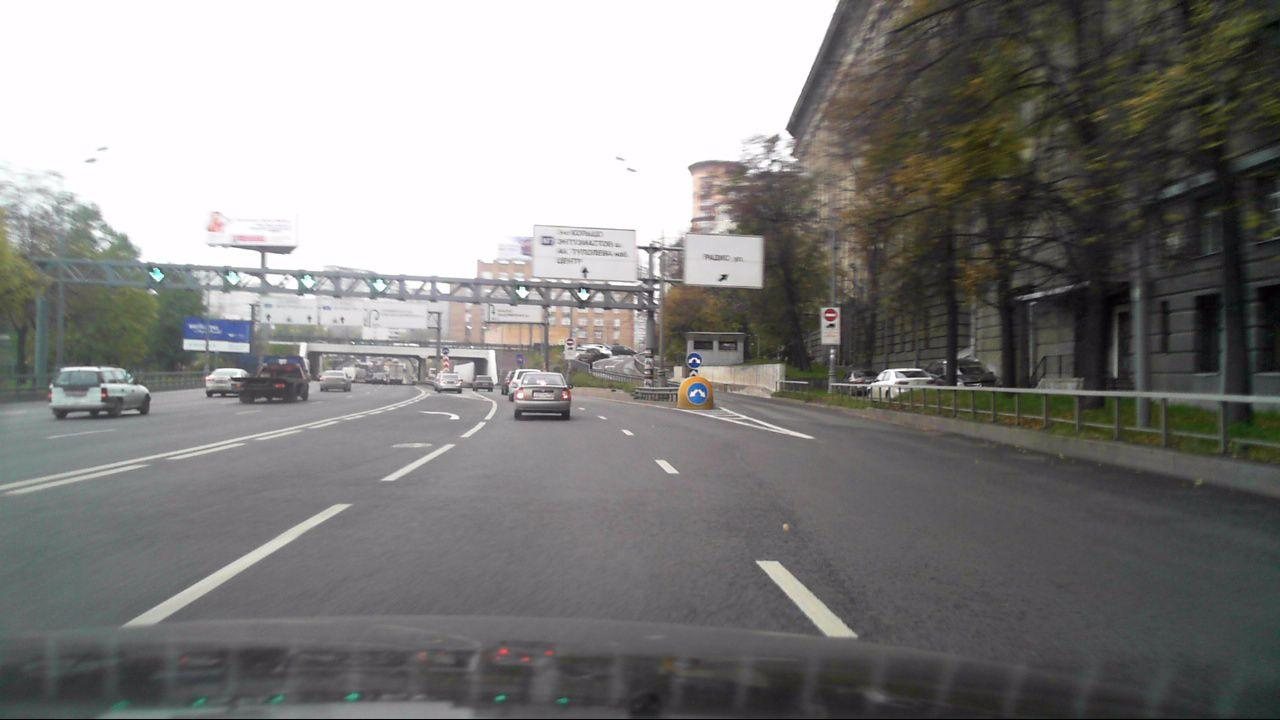road_sign: (686, 382, 709, 403), (685, 350, 706, 370), (824, 308, 838, 321)
